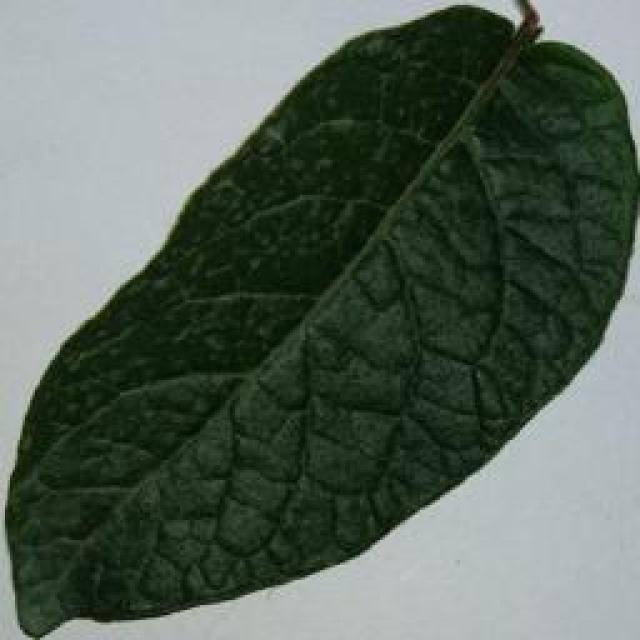Potato_Healthy: (0, 10, 625, 635)
